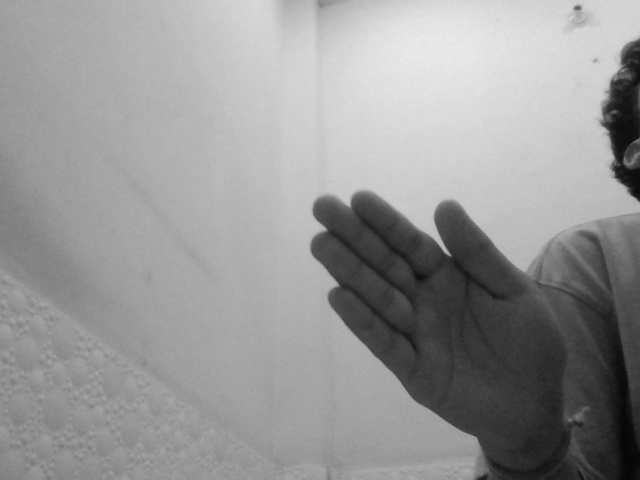Hello: (305, 192, 573, 447)
